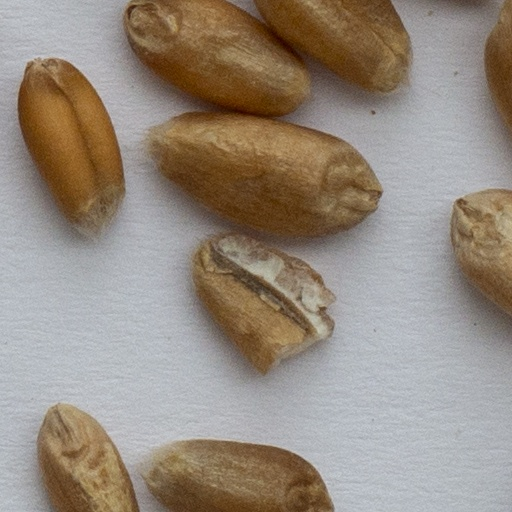Wheat-grain-damaged-poly: (187, 231, 342, 379)
